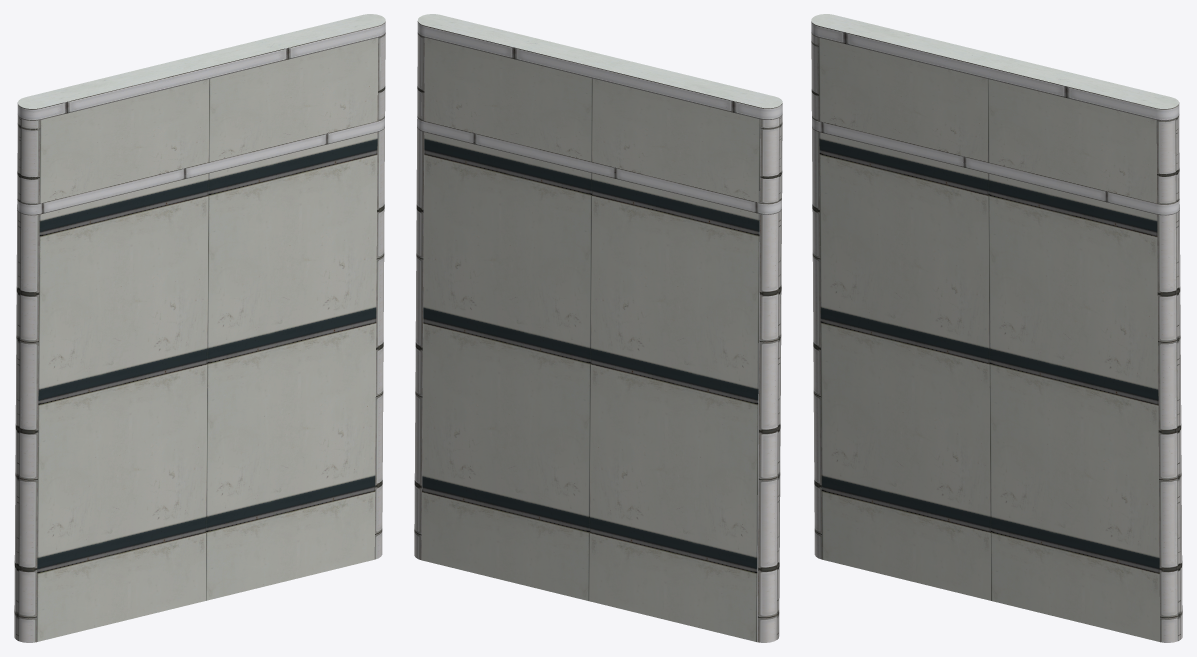
File: STA20_bridgepillar.FBX
3 renders of one model, left to right at view 1: azimuth 30°, elevation 25°; view 2: azimuth 150°, elevation 25°; view 3: azimuth 330°, elevation 25°, orthographic.
Parts seen in each view (by area): view 1: STA20_bridgepillar; view 2: STA20_bridgepillar; view 3: STA20_bridgepillar.
Boxes of the visible parts, x1,y1,x2,y2 form: STA20_bridgepillar: (14, 14, 385, 642); STA20_bridgepillar: (414, 14, 782, 642); STA20_bridgepillar: (811, 14, 1182, 642).
Size of the model in its own units: 13.78 by 19.4 by 1.22.
